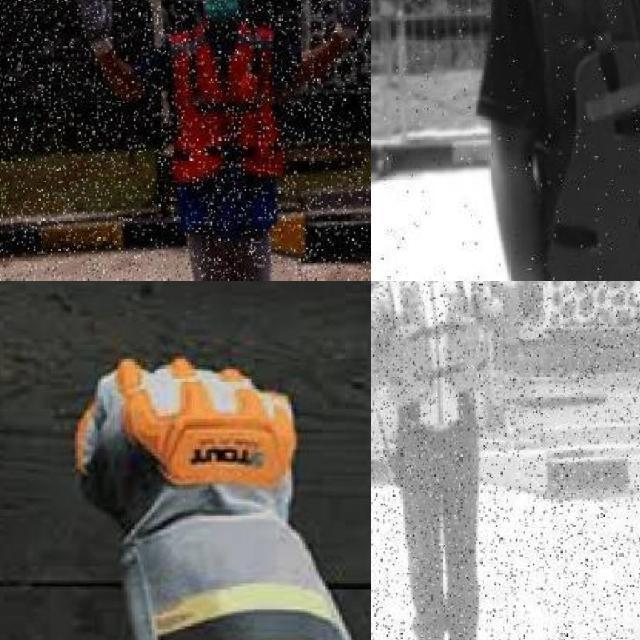apron: (66, 342, 371, 640), (72, 0, 115, 61), (328, 0, 369, 44)
